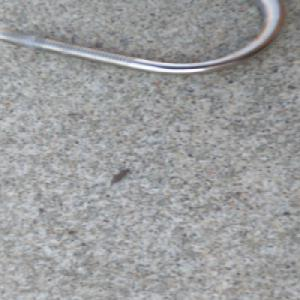ClampPart: (0, 0, 287, 76)
